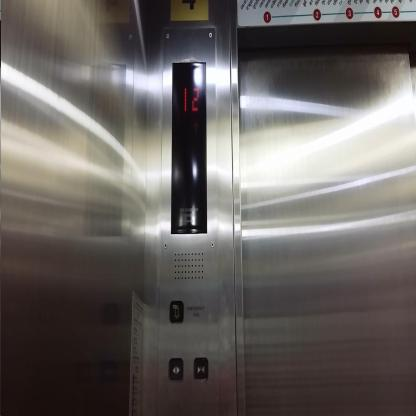alarm: (168, 298, 184, 324)
close: (192, 356, 209, 382)
led: (170, 59, 208, 237)
open: (167, 356, 184, 382)
